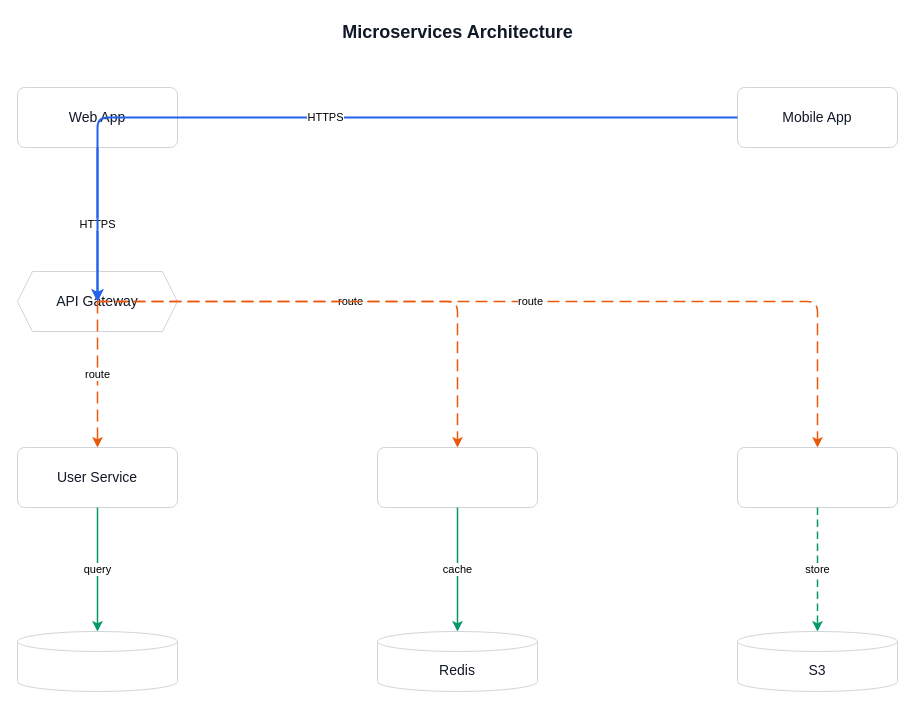
The diagram is 915 pixels wide and 709 high, and some of its shapes have lost their labels. Each missing label, with the centre of its shape:
Order Service: the point at 457,477
Payment Service: the point at 817,477
PostgreSQL: the point at 97,661
